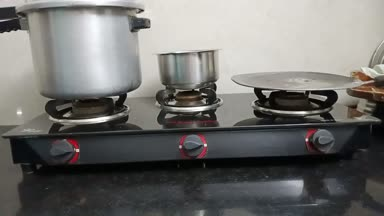flame_gas_off: (252, 86, 354, 158), (42, 97, 135, 169), (154, 86, 227, 161)
